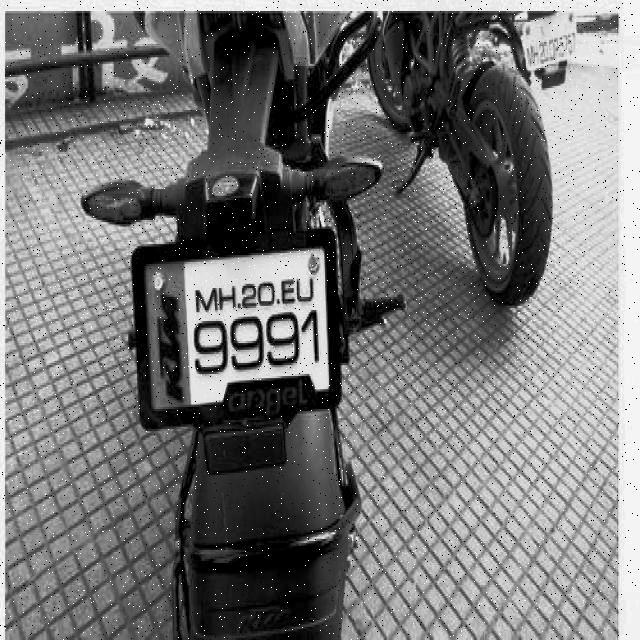Bike: (82, 9, 404, 639), (377, 10, 587, 307)
